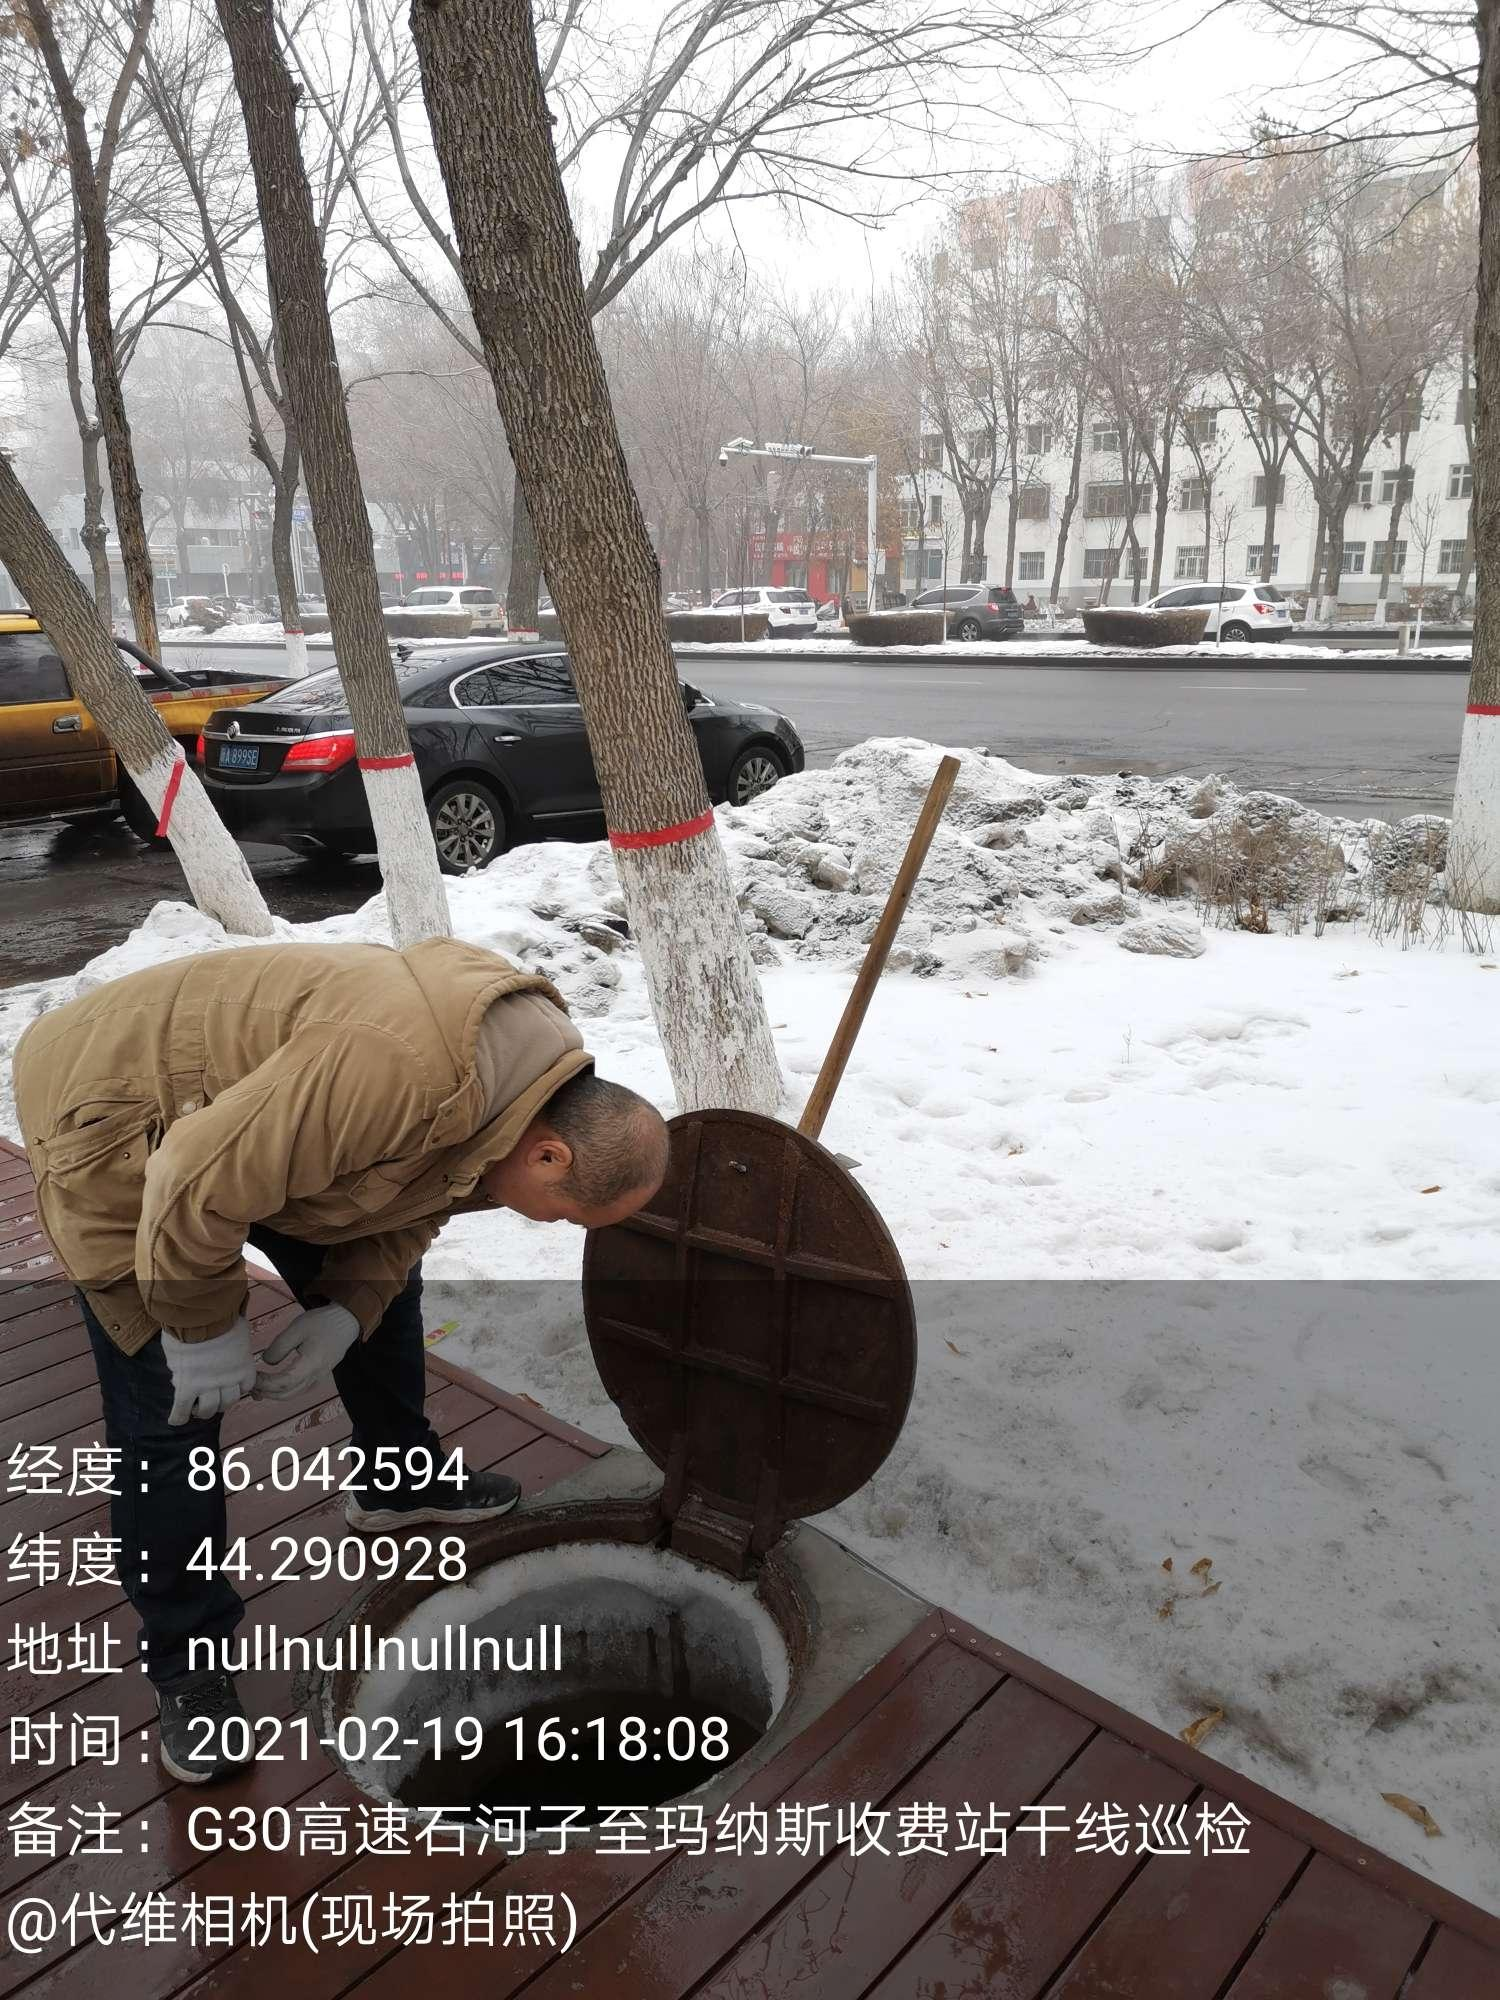wellcover: (348, 1044, 915, 1888)
